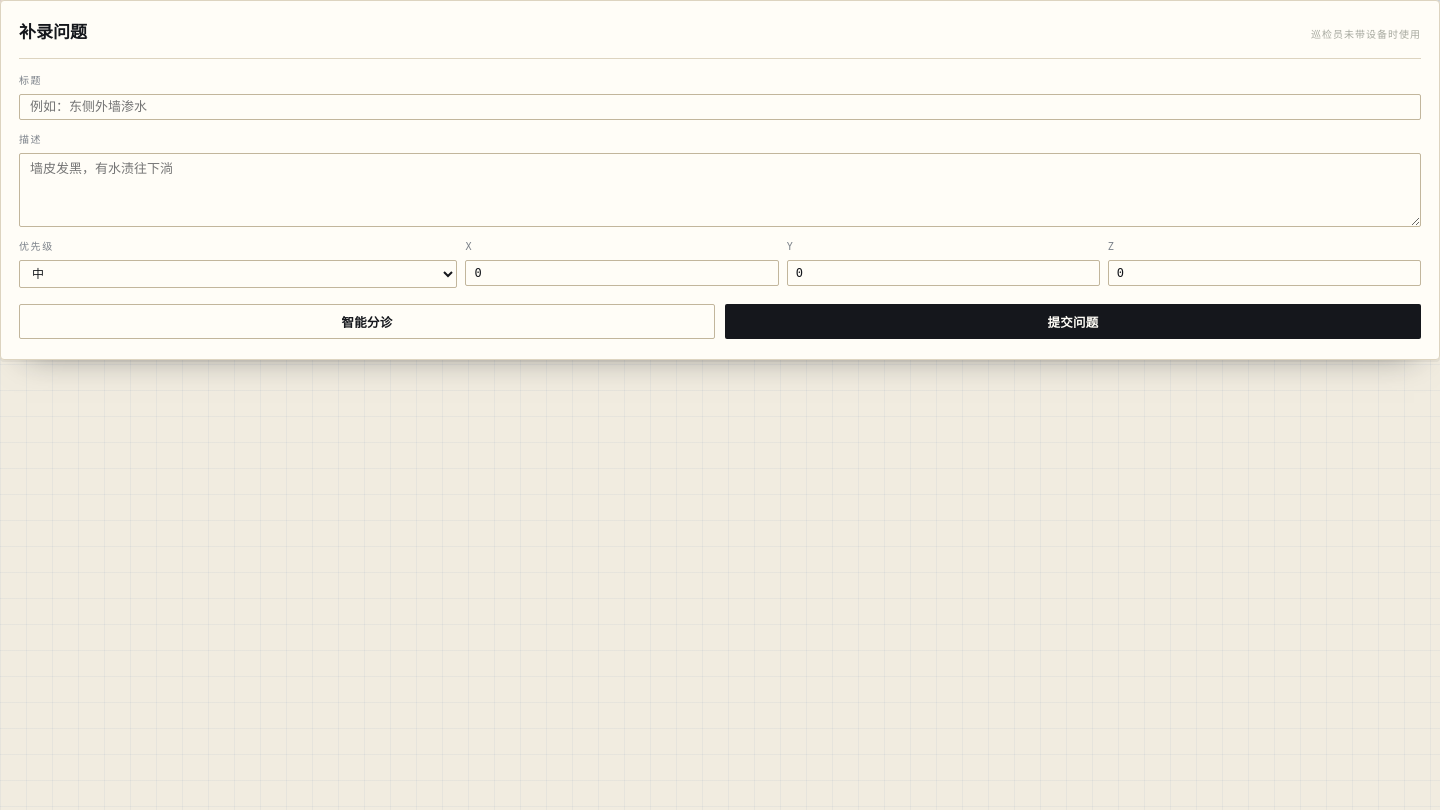
Test: NewIssuePanel 的智能分诊 › 重复风险高时面板里出现警告
The image size is (1440, 810).
Type "东侧外墙渗水" into the field labelled "标题" at (720, 107), box [19,94,1421,120]
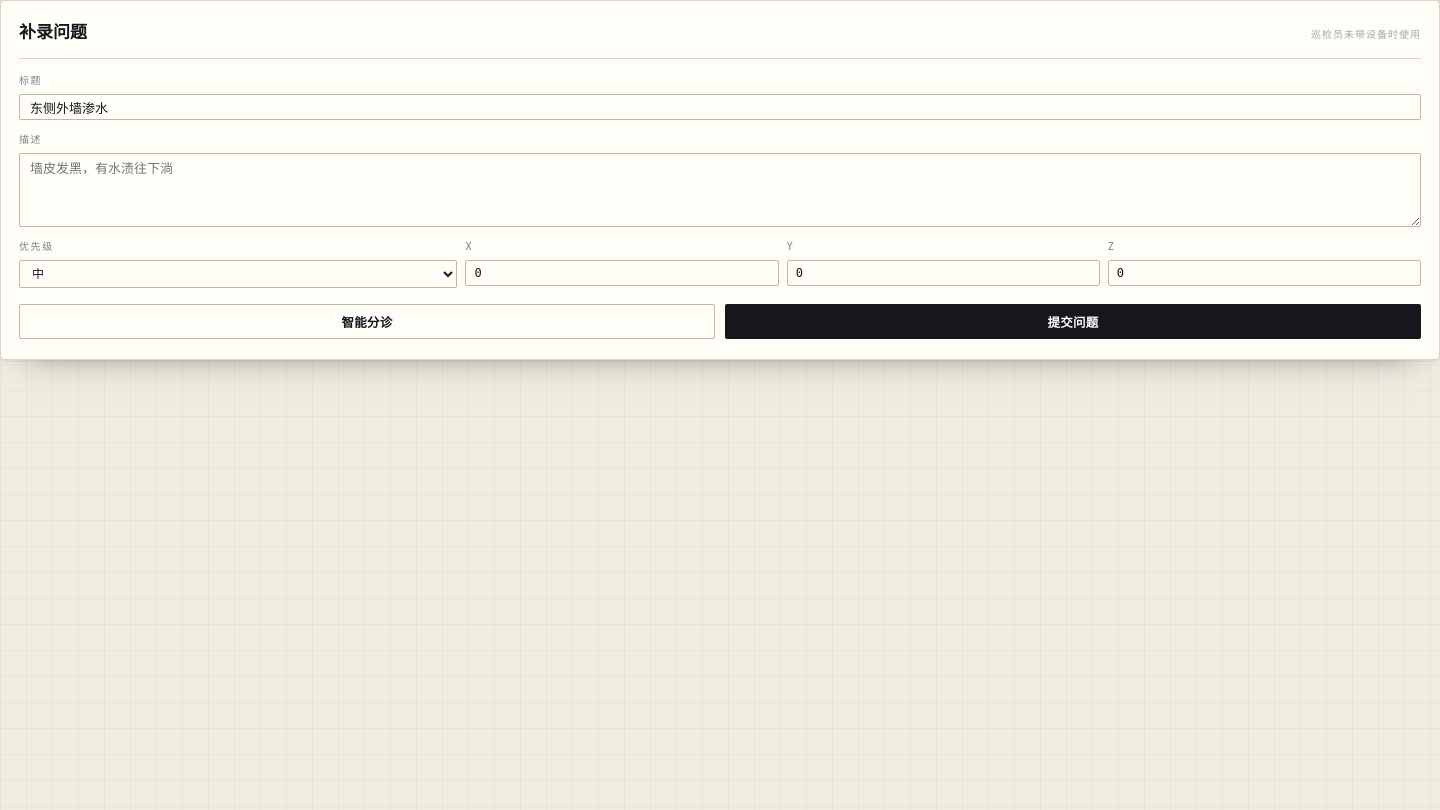
Click the button "智能分诊" at (367, 322), box [19,304,715,339]
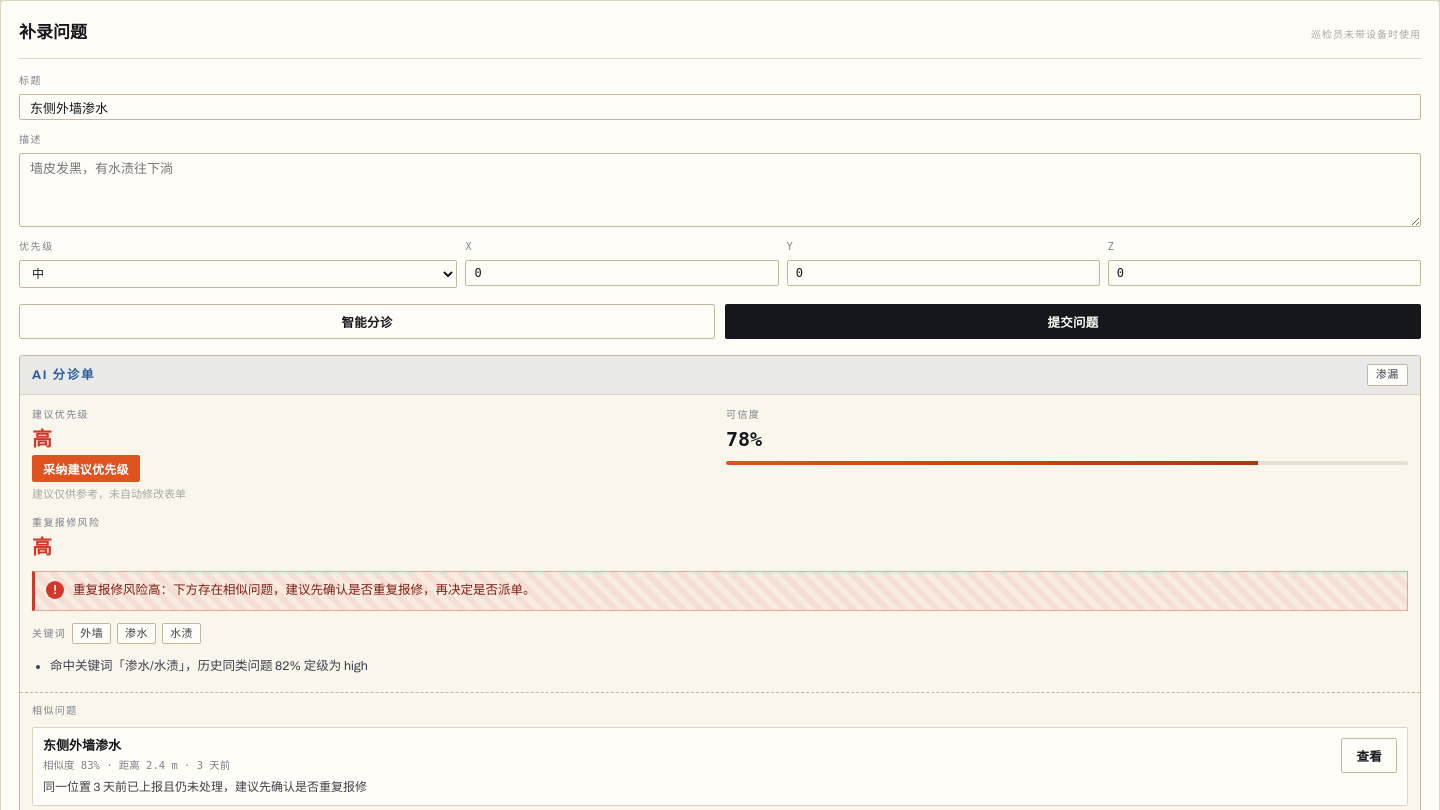
expect the text "重复报修风险高：下方存在相似问题，建议先确认是否重复报修，再决定是否派单。" is shown: met, box [73,581,536,601]
